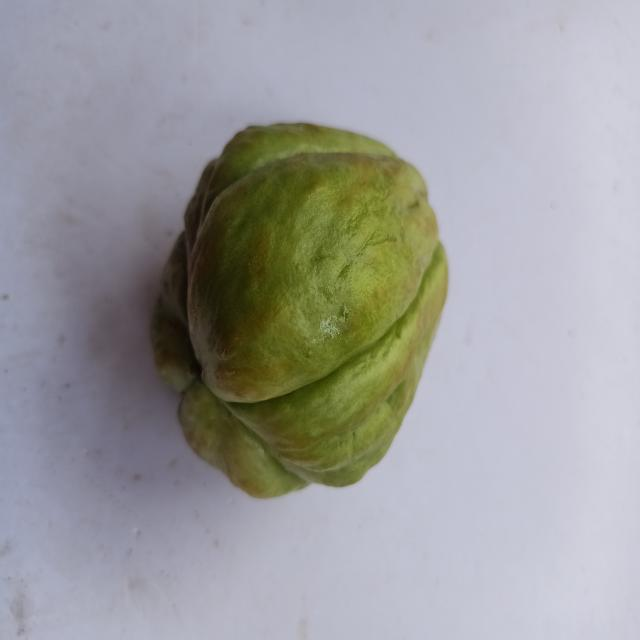Chayote: (139, 102, 457, 514)
